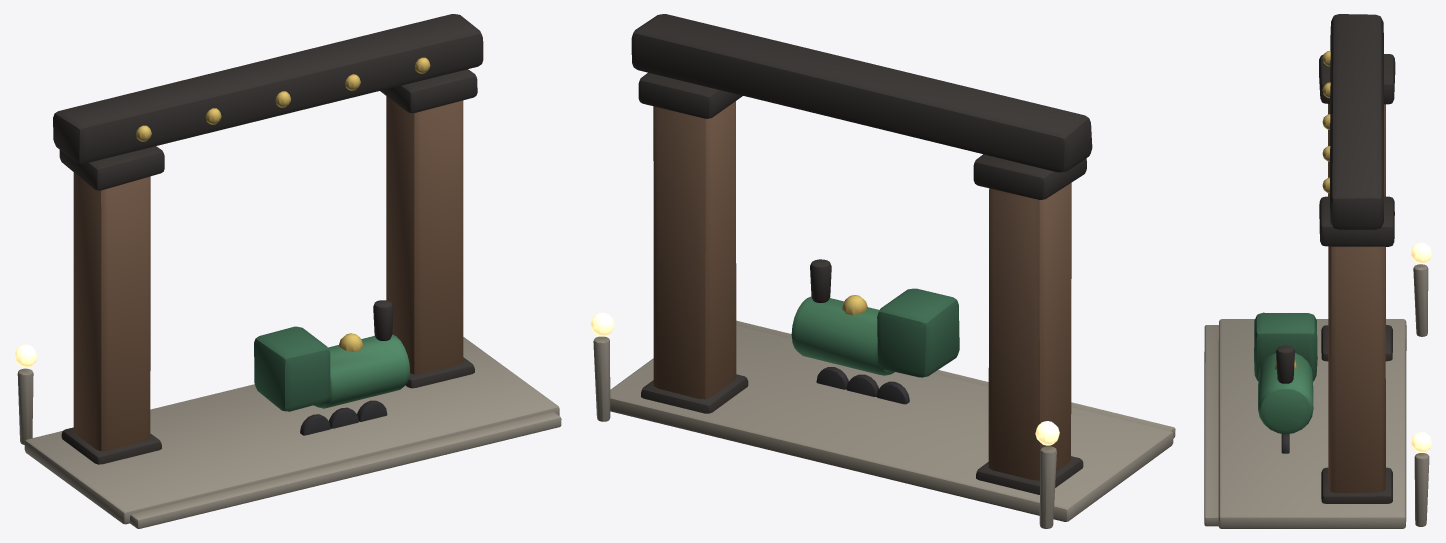
3 renders of one model, left to right at view 1: azimuth 30°, elevation 25°; view 2: azimuth 150°, elevation 25°; view 3: azimuth 270°, elevation 25°, orthographic. The views are drawn at different scales.
Parts seen in each view (by area): view 1: gate_1c01aae9; view 2: gate_1c01aae9; view 3: gate_1c01aae9.
Part boxes in pixels (box(x1,y1,x2,y2)): gate_1c01aae9: box(14, 14, 561, 528); gate_1c01aae9: box(590, 14, 1175, 528); gate_1c01aae9: box(1204, 14, 1431, 528).
Size of the model in its own units: 5.27 by 4.05 by 2.55.
